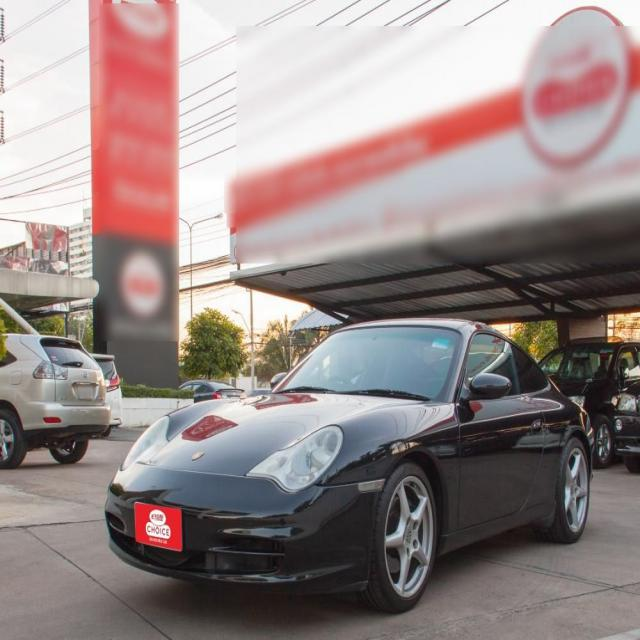front_bumper: (105, 462, 386, 597)
front_glass: (272, 327, 462, 403)
front_left_door: (455, 330, 546, 530)
front_left_light: (242, 424, 344, 493)
front_right_light: (120, 418, 169, 471)
hood: (149, 394, 427, 475)
left_mirror: (463, 374, 512, 405)
right_mirror: (269, 373, 287, 389)
wheel: (364, 437, 592, 615)
